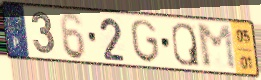2: (97, 14, 129, 63)
3: (30, 10, 56, 57)
6: (58, 10, 87, 62)
G: (129, 18, 162, 65)
M: (194, 23, 240, 72)
Q: (170, 21, 202, 68)
